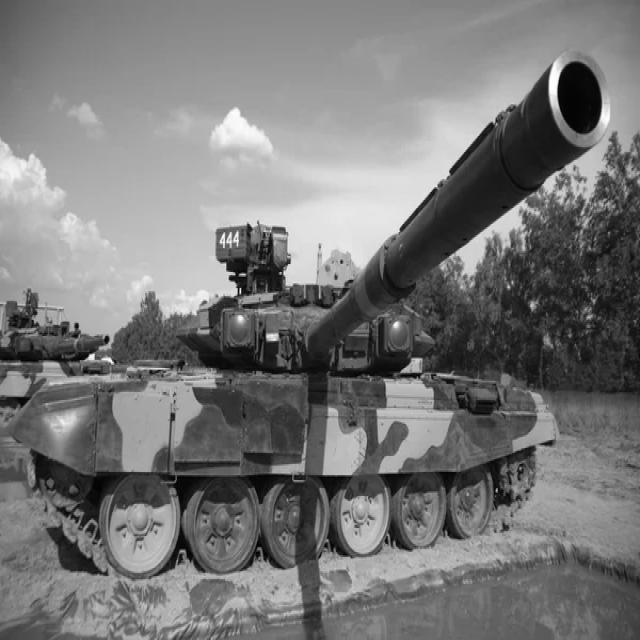Tank: (14, 40, 617, 591), (2, 289, 115, 401)
